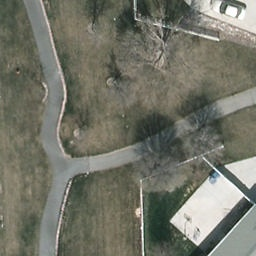car: (211, 0, 246, 20)
